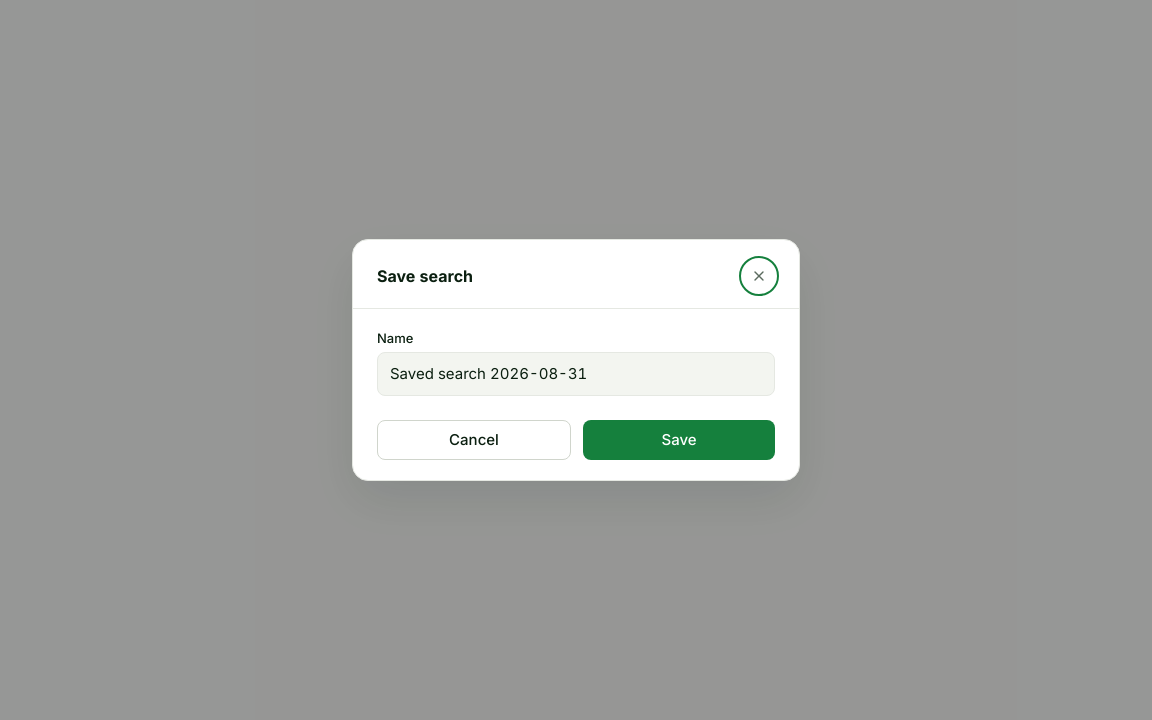
Test: Save search modal (SRCH-13) › disables Submit button when name field empty
Clear the field labelled "Name": (576, 374) [377,352,775,396]
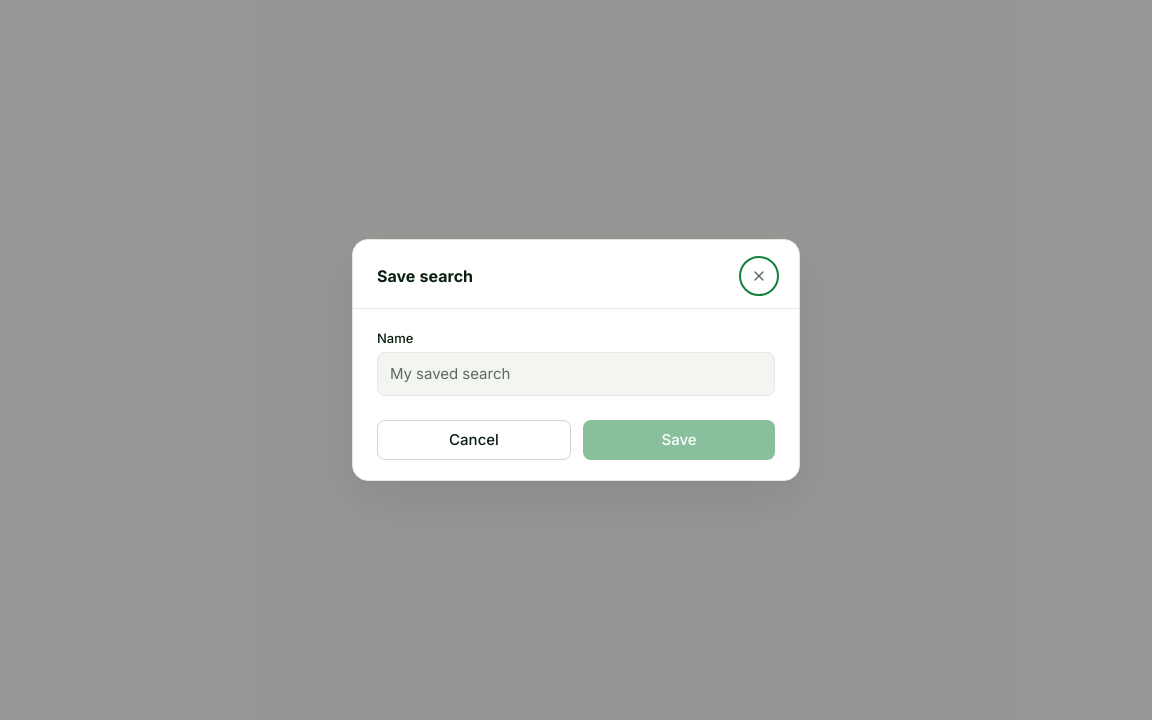
Result: the button "Save" is disabled at [583,420,775,460]
